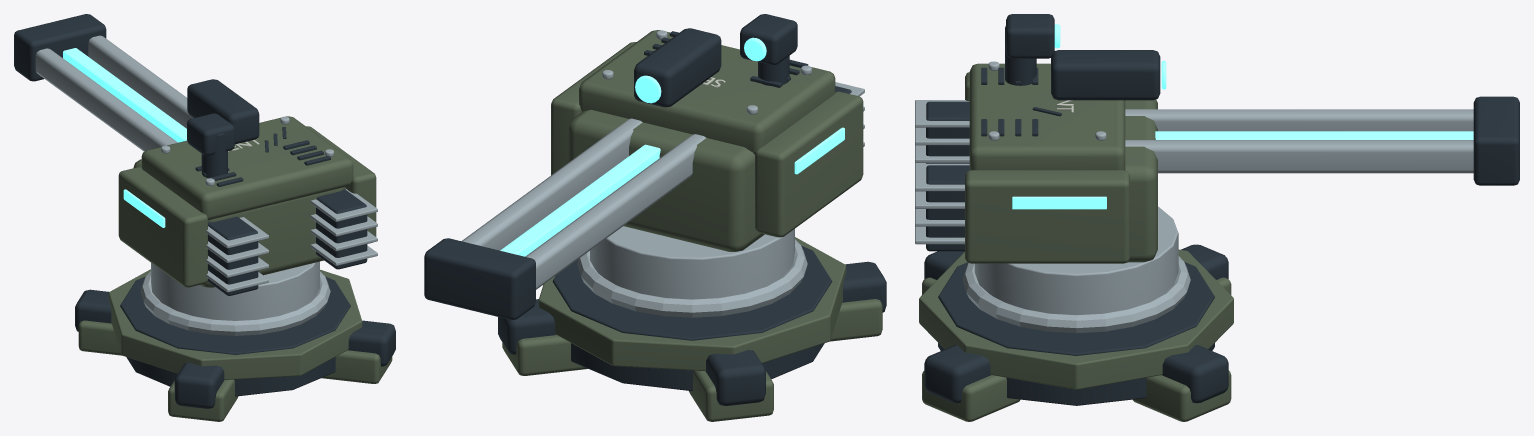
The model's file is 04_sniper_lancer.glb.
The picture shows the model from 3 angles, left to right: view 1: azimuth 30°, elevation 25°; view 2: azimuth 150°, elevation 25°; view 3: azimuth 270°, elevation 25°; orthographic projection. The views are drawn at different scales.
Parts seen in each view (by area): view 1: Armored cradle, Cooling vent, Rivet, Recessed bearing, Armored footing, Bearing, Identification strip; view 2: Armored cradle, Recessed bearing, Armored footing, Bearing, Cooling vent, Rivet, Identification strip; view 3: Armored cradle, Rivet, Cooling vent, Recessed bearing, Armored footing, Bearing, Identification strip.
Boxes of the visible parts, x1=… form: Armored cradle: x1=118, y1=116, x2=376, y2=287; Cooling vent: x1=14, y1=14, x2=367, y2=295; Rivet: x1=35, y1=35, x2=377, y2=292; Recessed bearing: x1=75, y1=276, x2=395, y2=408; Armored footing: x1=78, y1=269, x2=392, y2=421; Bearing: x1=140, y1=261, x2=330, y2=335; Identification strip: x1=63, y1=48, x2=186, y2=227; Armored cradle: x1=551, y1=30, x2=863, y2=251; Recessed bearing: x1=498, y1=246, x2=886, y2=405; Armored footing: x1=502, y1=237, x2=882, y2=421; Bearing: x1=577, y1=226, x2=807, y2=317; Cooling vent: x1=424, y1=14, x2=851, y2=319; Rivet: x1=461, y1=30, x2=864, y2=289; Identification strip: x1=500, y1=37, x2=844, y2=256; Armored cradle: x1=965, y1=63, x2=1157, y2=263; Rivet: x1=915, y1=61, x2=1473, y2=244; Cooling vent: x1=926, y1=14, x2=1519, y2=251; Recessed bearing: x1=924, y1=244, x2=1228, y2=405; Armored footing: x1=919, y1=249, x2=1233, y2=421; Bearing: x1=962, y1=206, x2=1190, y2=333; Identification strip: x1=1012, y1=24, x2=1473, y2=209.
Size of the model in its own units: 1.3 by 1.42 by 2.49.
